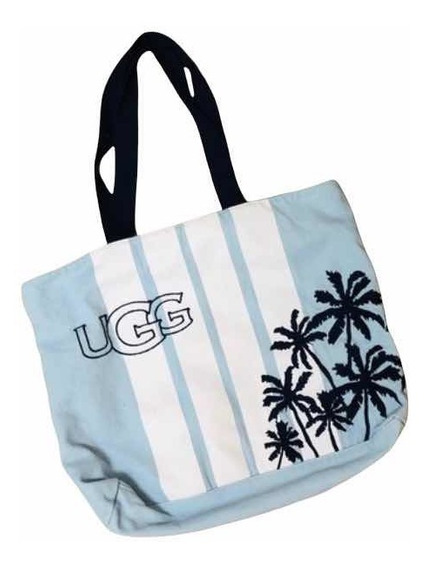cartera: (20, 32, 408, 539)
